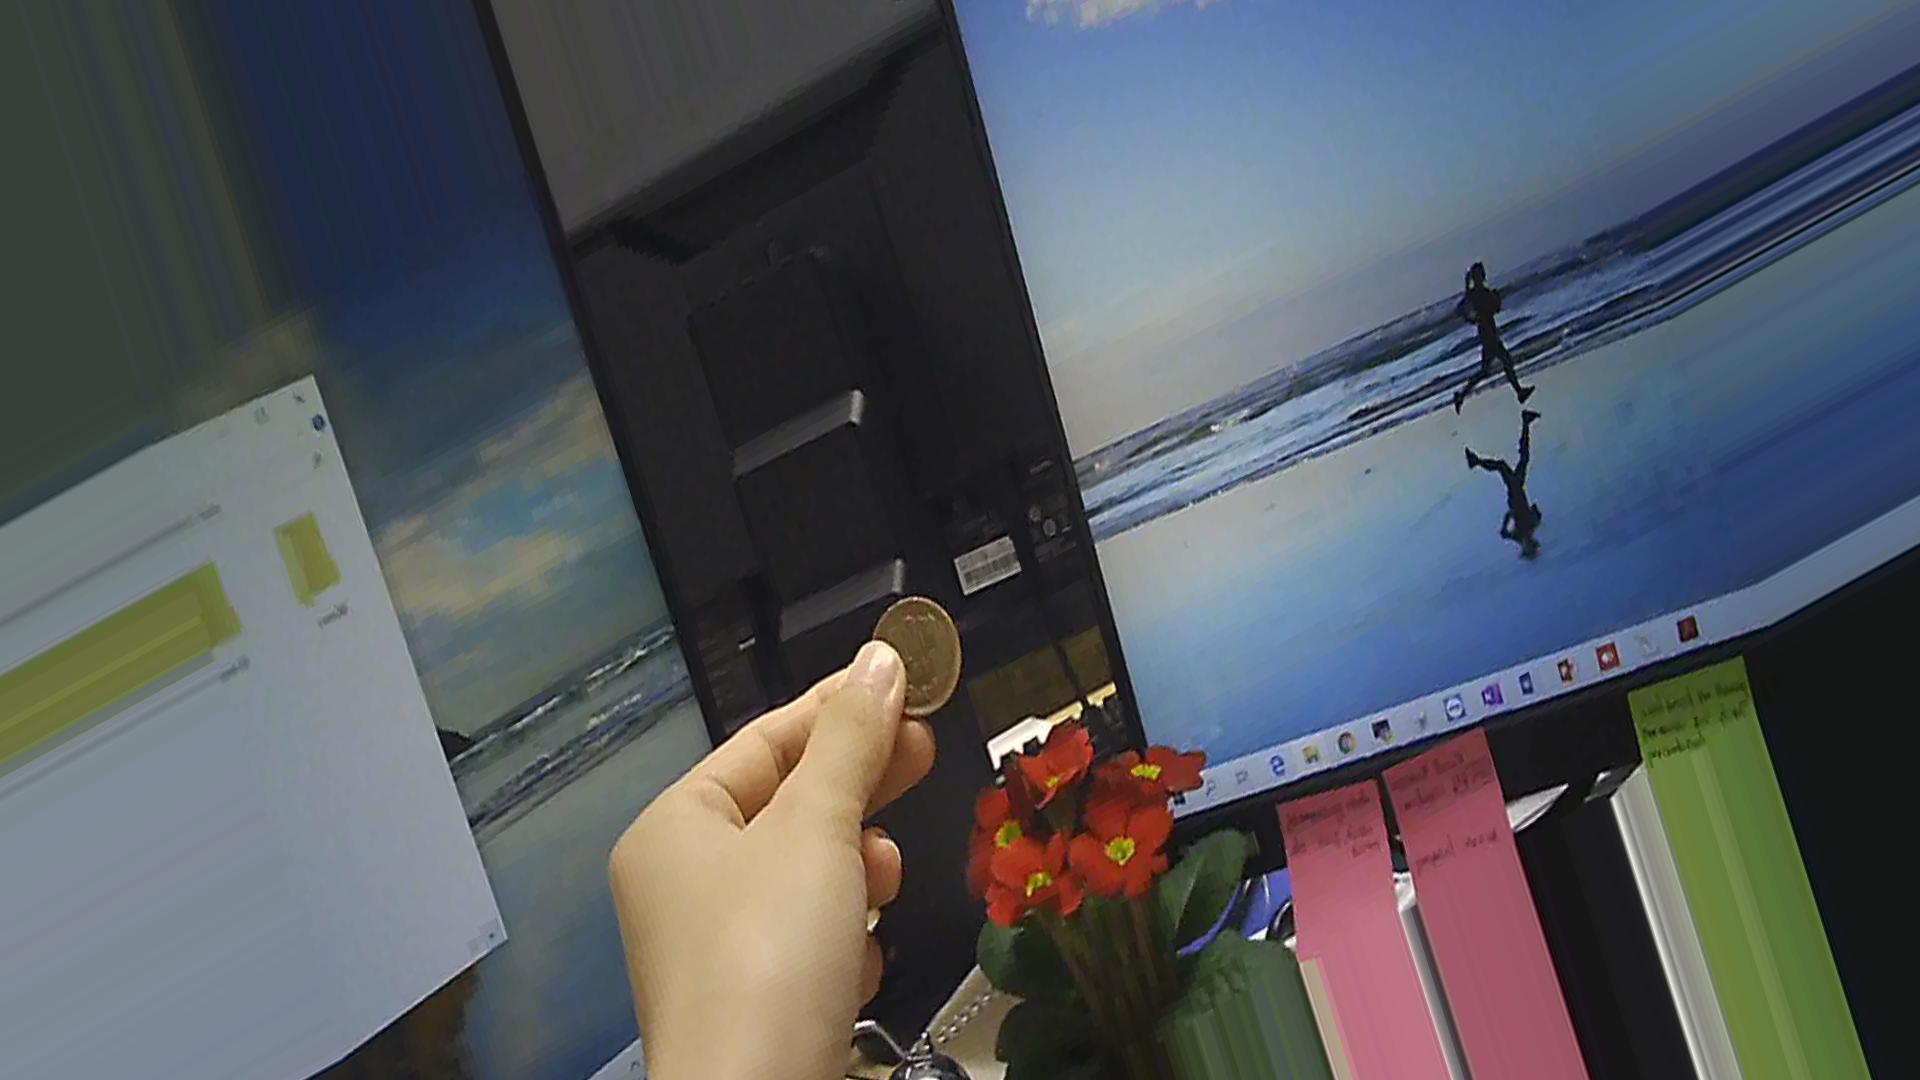10 Yen: (855, 592, 964, 720)
